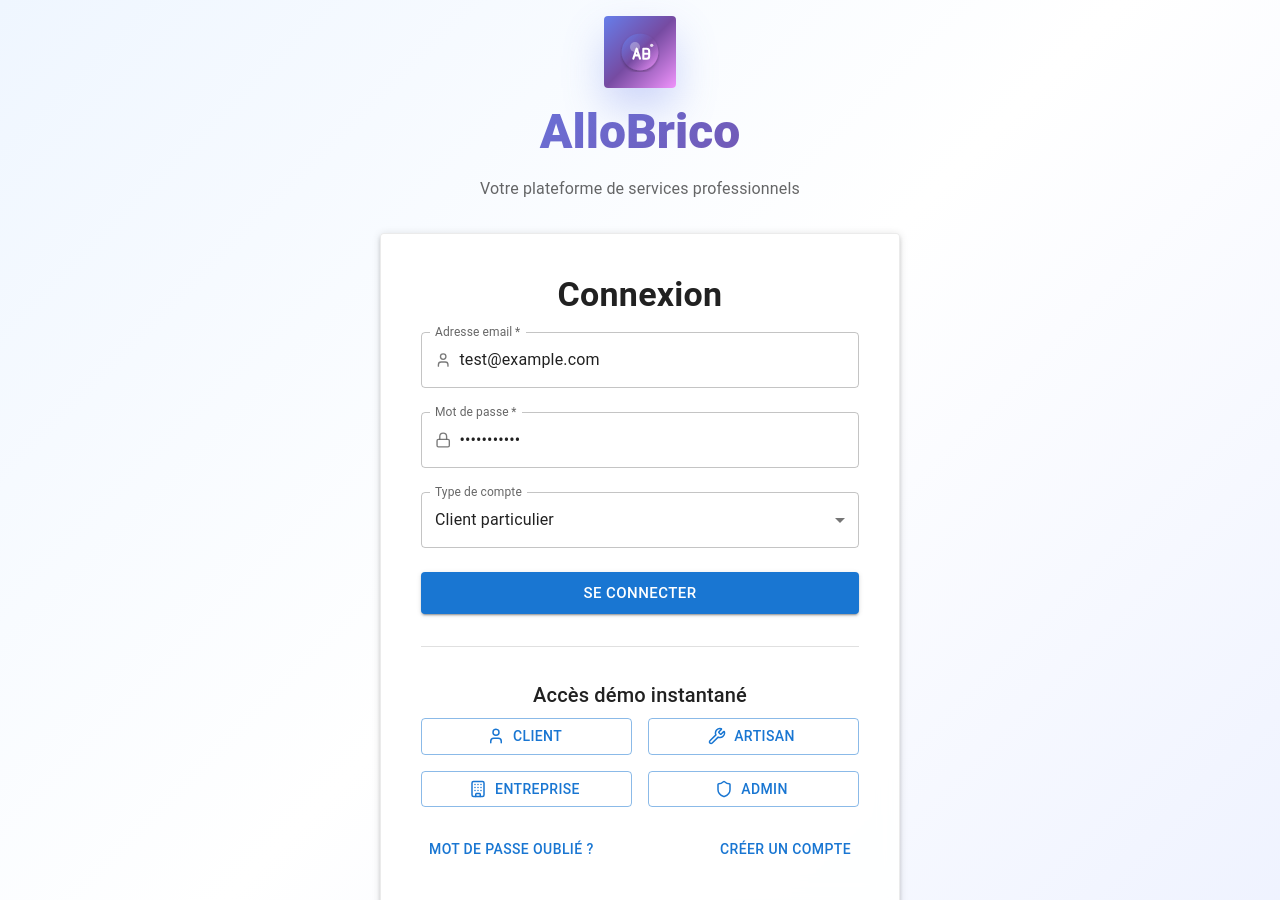
Test case: Login Component › forgot password dialog can be opened
Click the button "Mot de passe oublié ?" at (511, 849), box x1=421 y1=831 x2=602 y2=868
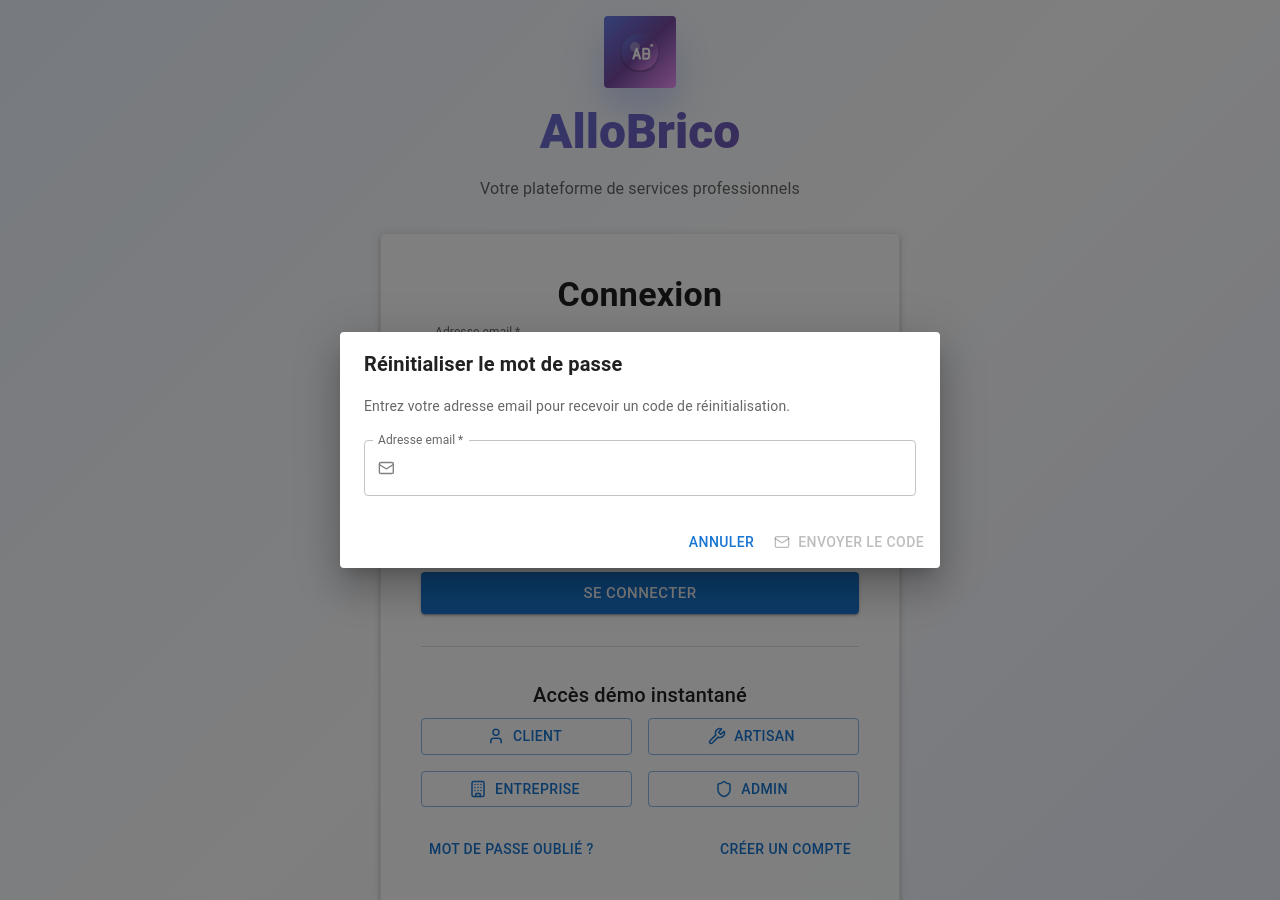
Result: the heading "Réinitialiser le mot de passe" is shown at x1=364 y1=348 x2=622 y2=380
